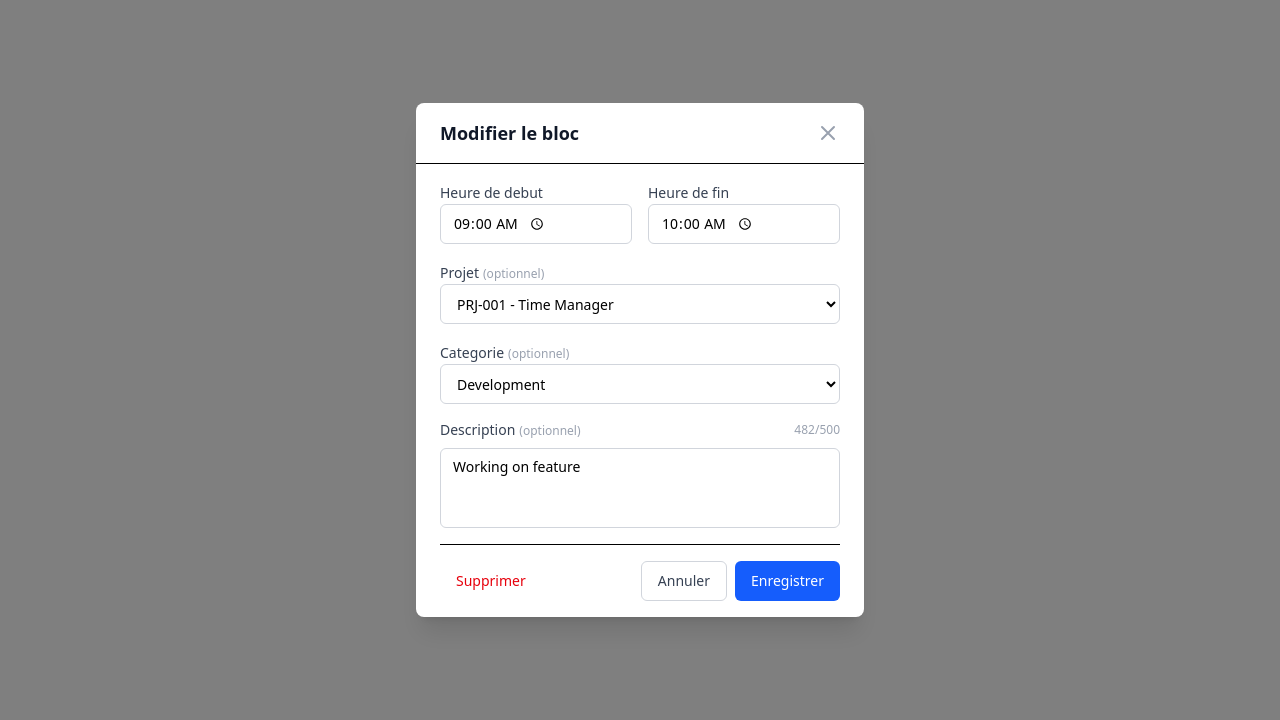
it: BlockModal › Delete Action › shows confirmation before delete
Click the button "Supprimer" at (491, 581), box [440,561,542,601]
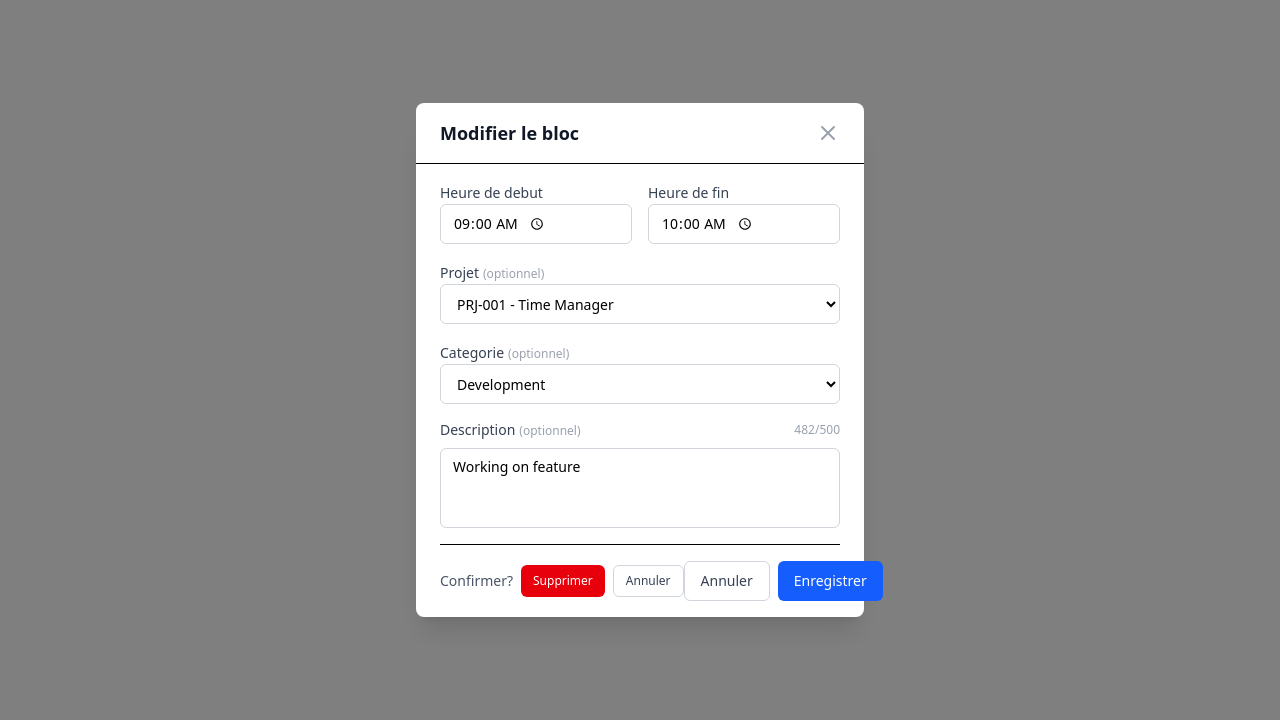
Expected: the text "Confirmer?" is shown, [440,571,513,591]
